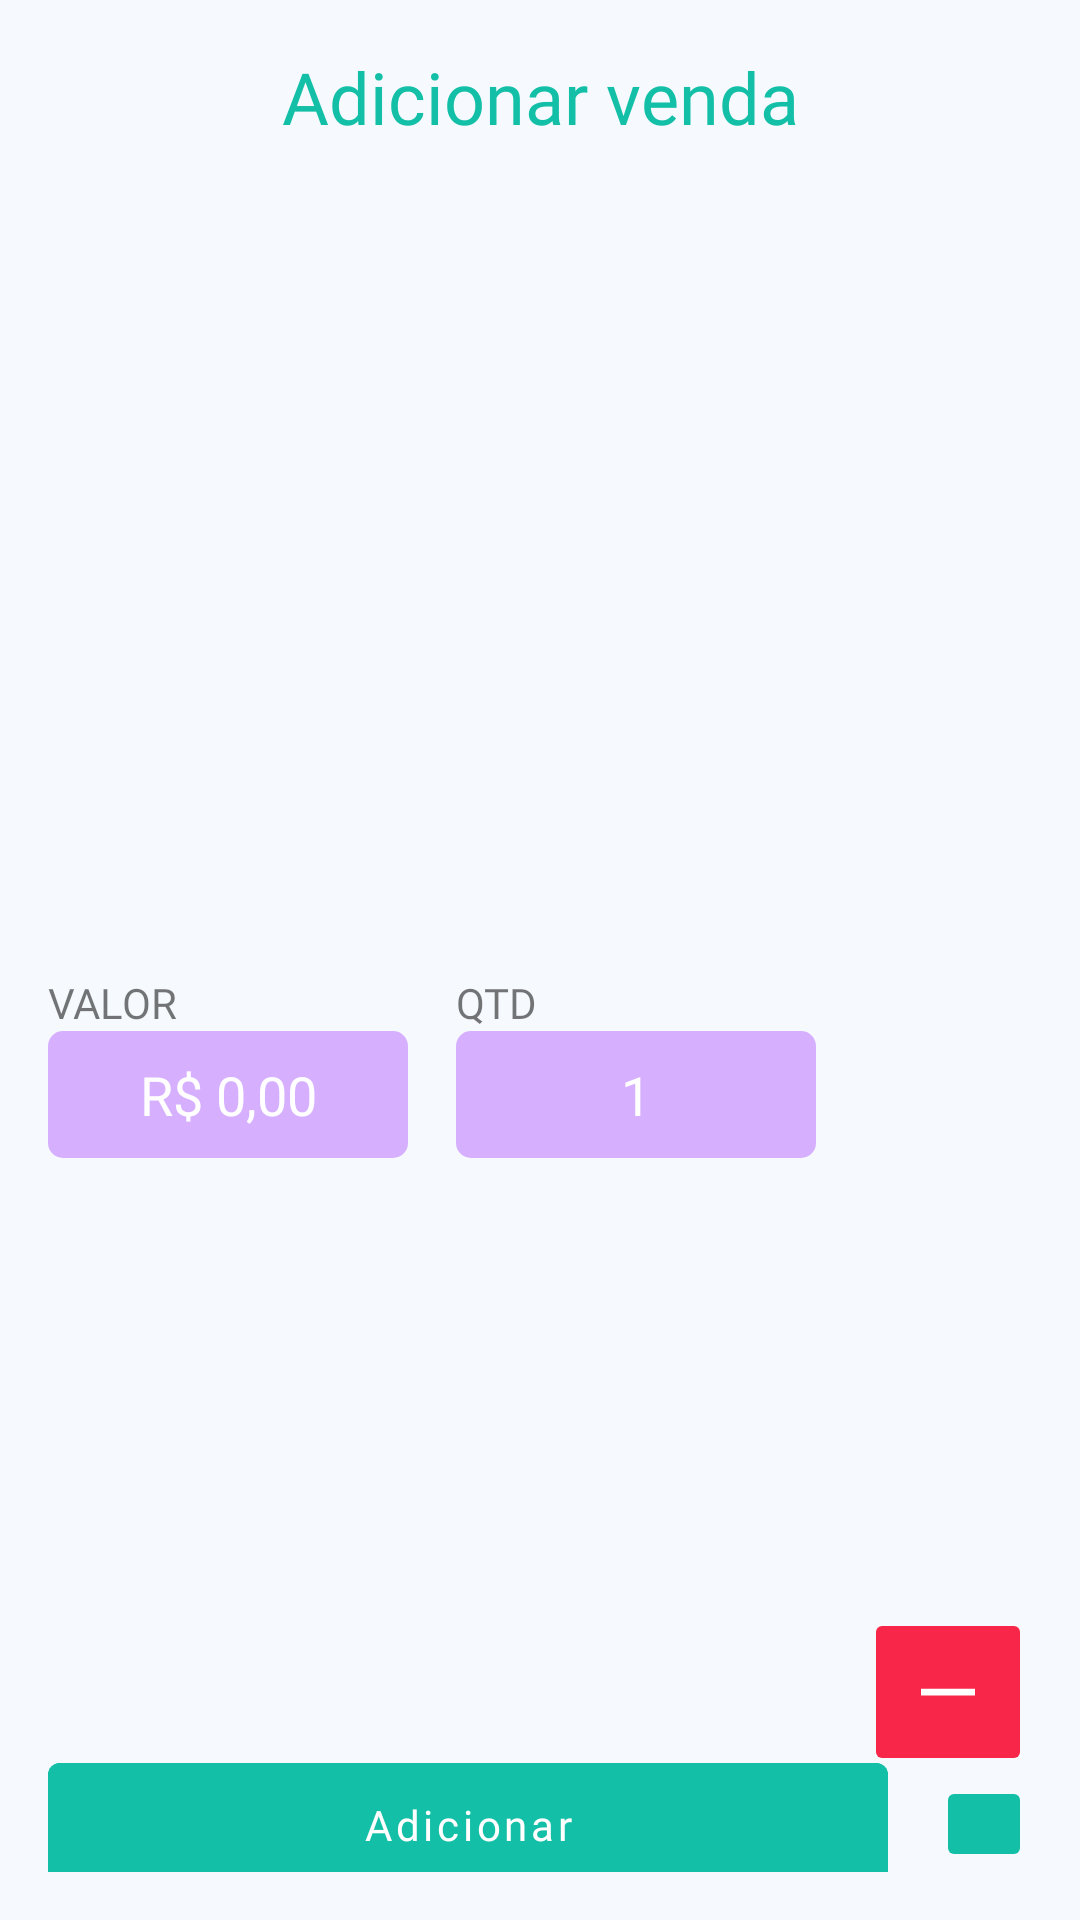

Where to tap for icons on this 1080px x 1920px app screen, as point (x, y):
minus: point (948, 1692)
